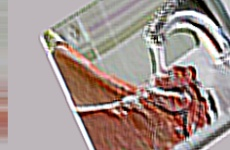washing hand: (59, 0, 229, 149)
